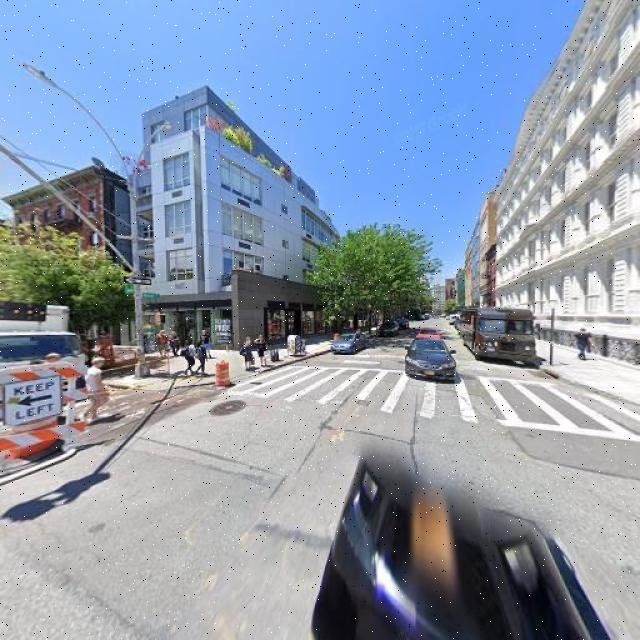Building: (135, 108, 347, 348), (507, 1, 640, 355)
